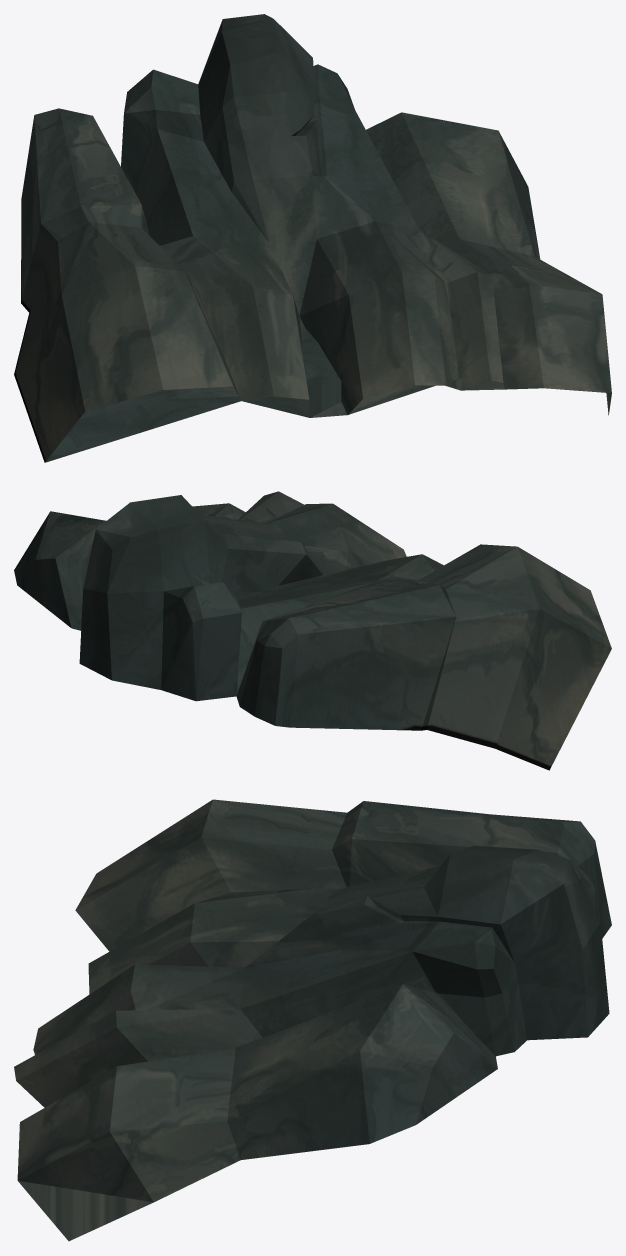
Rendered from ETC0610072.fbx.
3 renders of one model, top to bottom at view 1: azimuth 30°, elevation 25°; view 2: azimuth 150°, elevation 25°; view 3: azimuth 270°, elevation 25°, orthographic. The views are drawn at different scales.
Visible parts, largest first — view 1: smETC0610072; view 2: smETC0610072; view 3: smETC0610072.
Boxes of the visible parts, x1,y1,x2,y2 form: smETC0610072: [14, 14, 611, 462]; smETC0610072: [14, 491, 611, 770]; smETC0610072: [14, 799, 611, 1241].
Bounding box in the file's own units: 282 × 141 × 246.
Materials: 1 (1 with a texture image).
